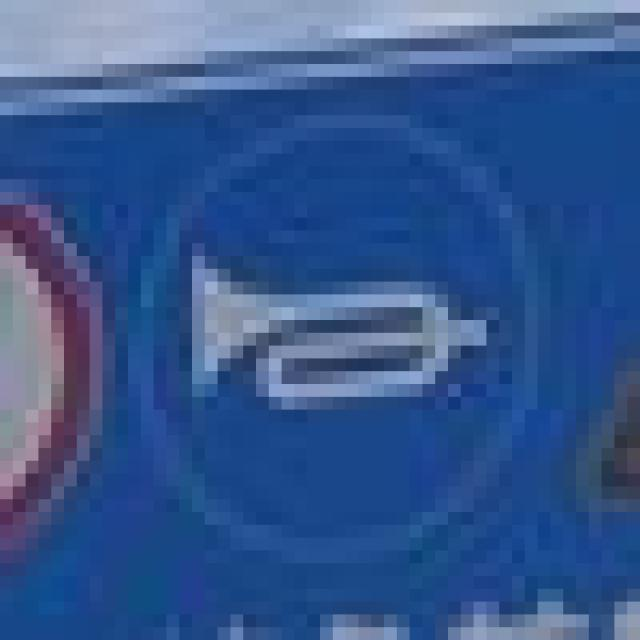compulsory_min_speed: (102, 102, 550, 550)
